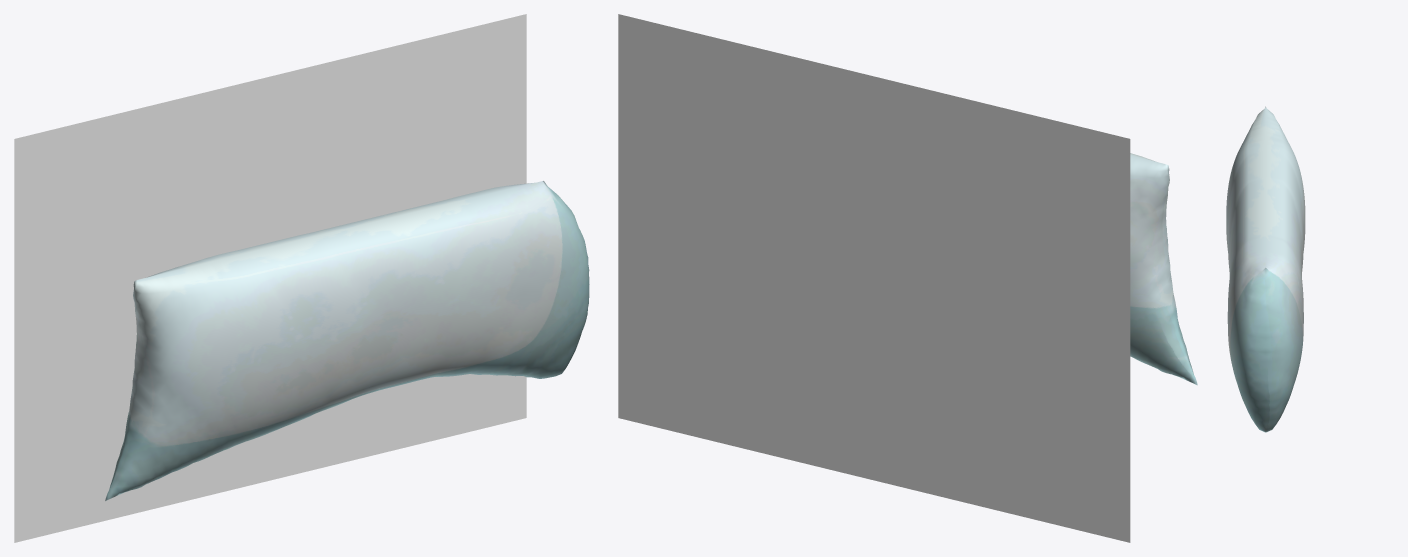
The model's file is shipsail.fbx.
3 renders of one model, left to right at view 1: azimuth 30°, elevation 25°; view 2: azimuth 150°, elevation 25°; view 3: azimuth 270°, elevation 25°, orthographic. The views are drawn at different scales.
Visible parts, largest first — view 1: root (×2); view 2: root (×2); view 3: root.
Part boxes in pixels (bbox=[...]): root (×2): bbox=[14, 14, 589, 542]; root (×2): bbox=[618, 14, 1197, 542]; root: bbox=[1226, 106, 1305, 432].
Bounding box in the file's own units: 0.748 × 0.564 × 0.2619.
Materials: 2 (2 with a texture image).
